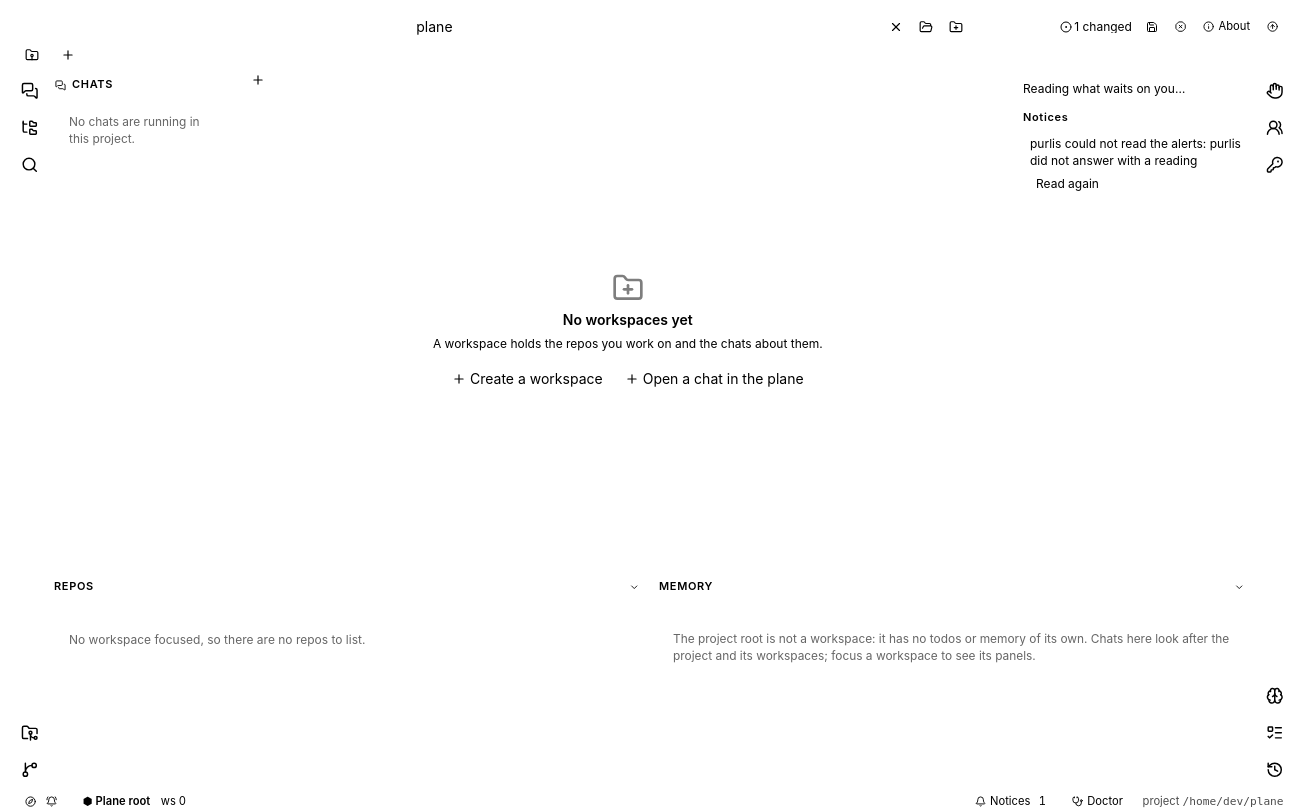
Scenario: the save indicator, in the window › saves the project in front from the bar, and says so once it is saved
The width and height of the screenshot is (1304, 812).
Click the button named "Save the project" at (1152, 27), box top-left (1140, 16), bottom-right (1164, 37)
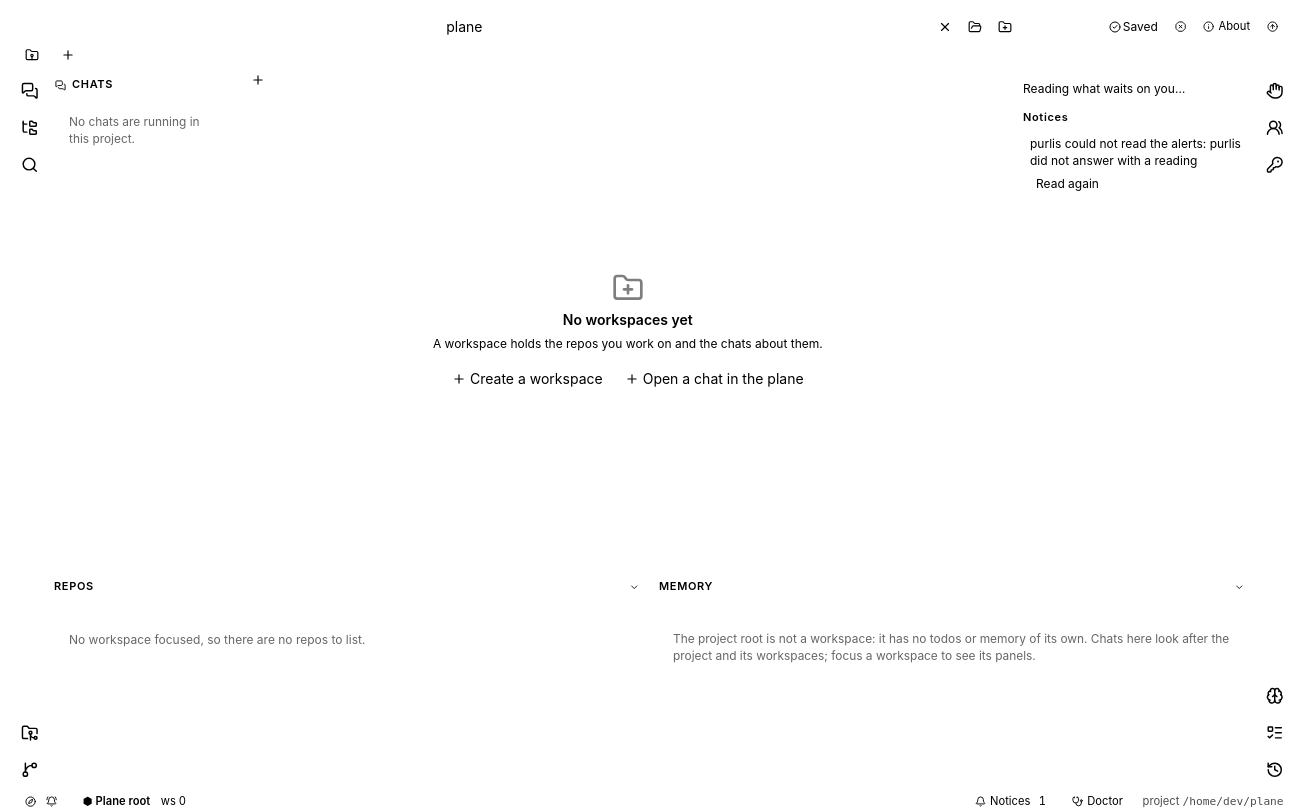
Check: the button with aria-label "Saving: Saved" is shown, box top-left (1103, 16), bottom-right (1164, 37)
